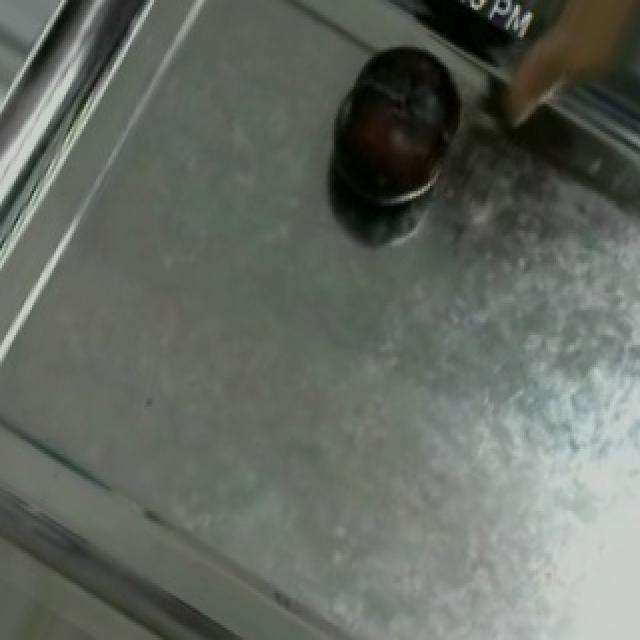Fruit: (312, 22, 484, 234)
